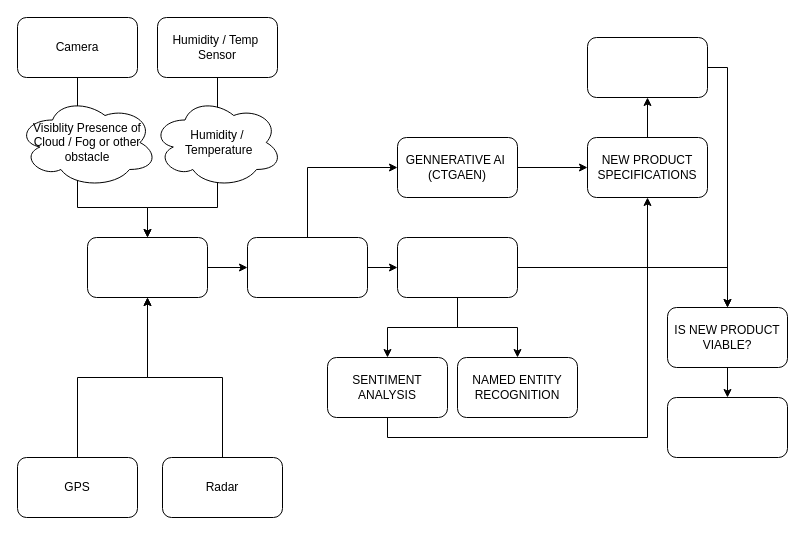
Image size: 805x535. Some labels were removed from this diagram. Each missing label, with the centre of its shape:
A/B TESTING: the point at 647,67
DATA COLLECTION: the point at 147,267
FINAL DECISION AND PUBLICATION: the point at 727,427
LLM MODEL (LLAMA): the point at 457,267
PREPROCESSING: the point at 307,267
